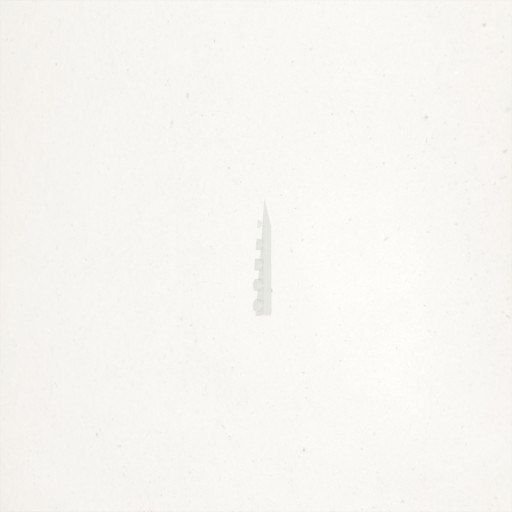lego: (243, 193, 272, 319)
